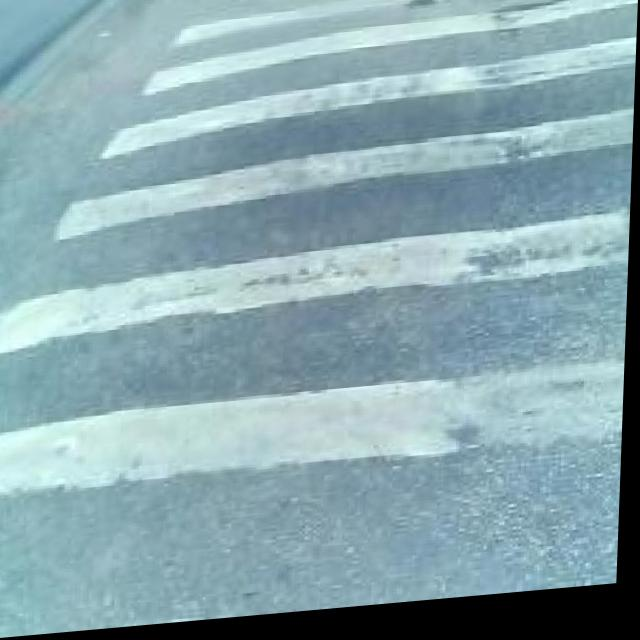zebra: (158, 0, 627, 591)
